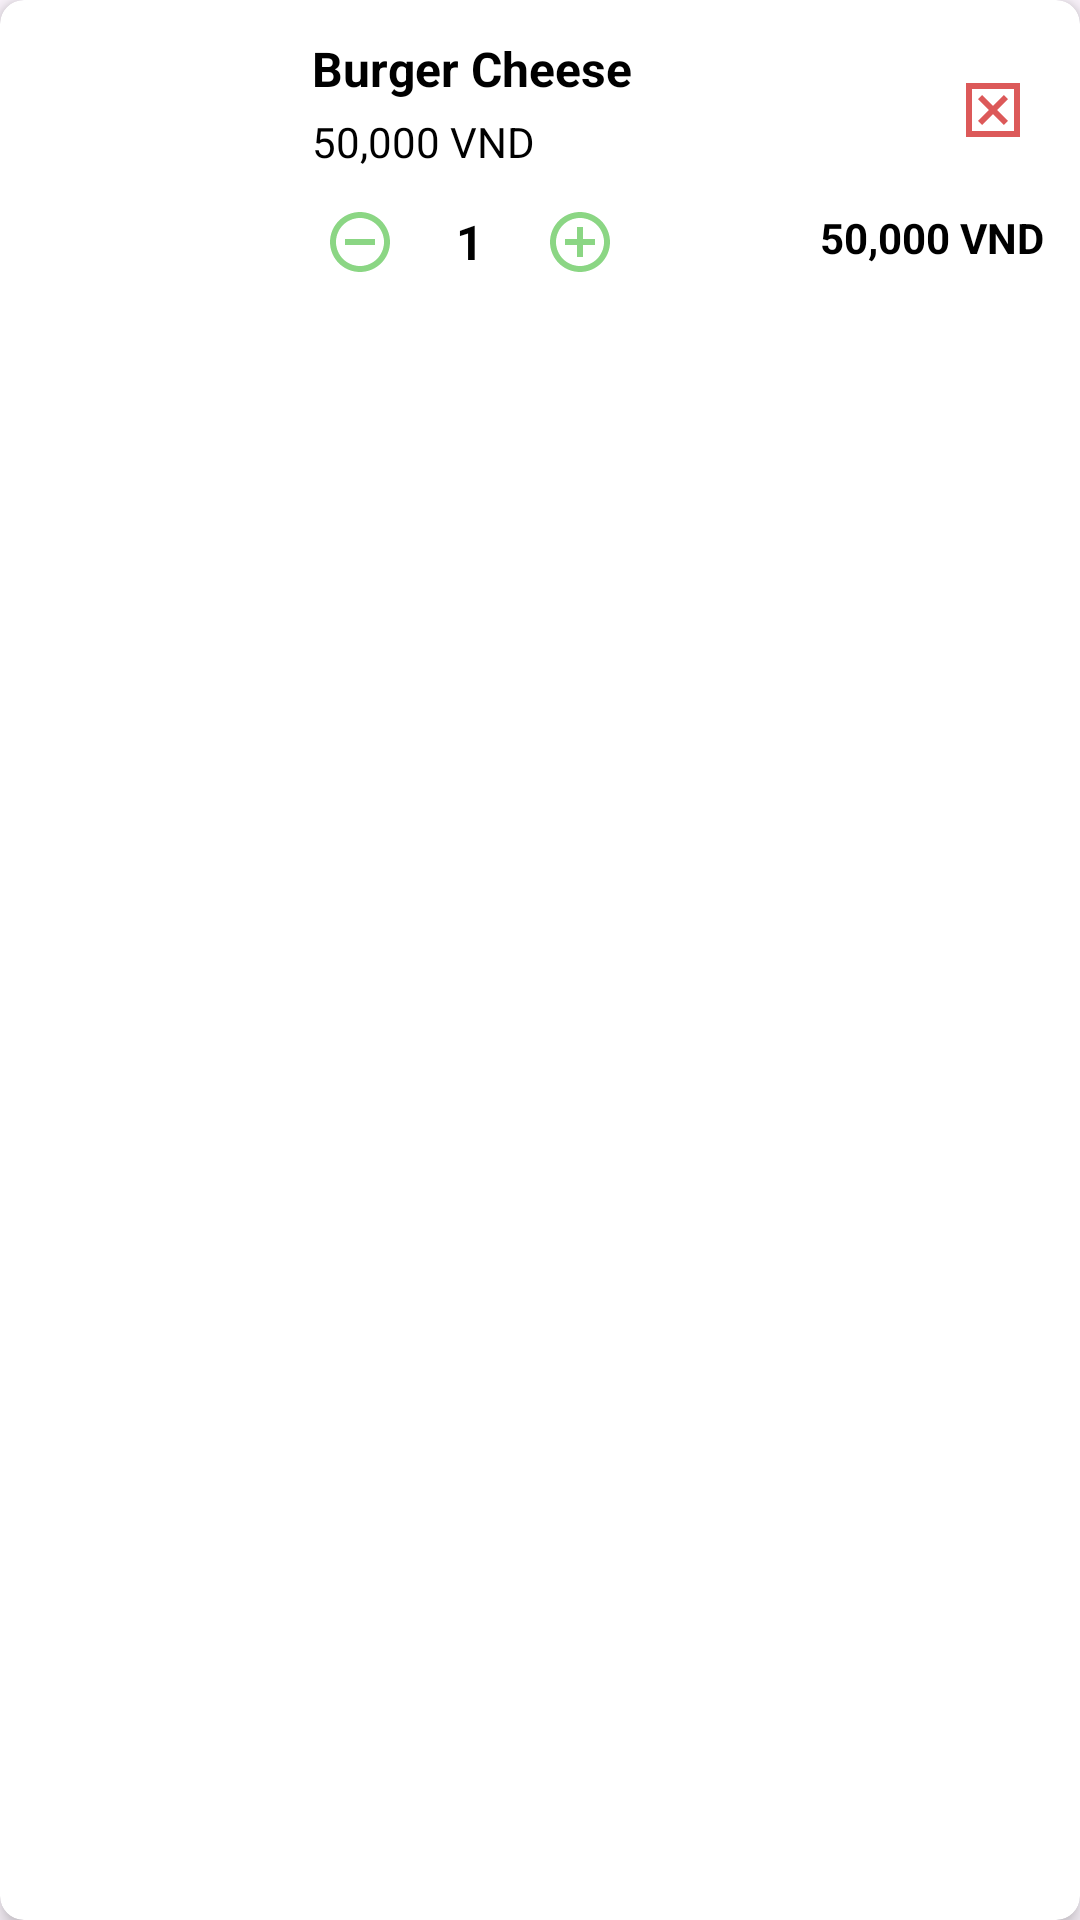

Where to tap for icons on this 1080×1920 app screen, as point (x, y):
Decrease quantity: point (360, 242)
Increase quantity: point (580, 242)
Remove item: point (993, 110)
